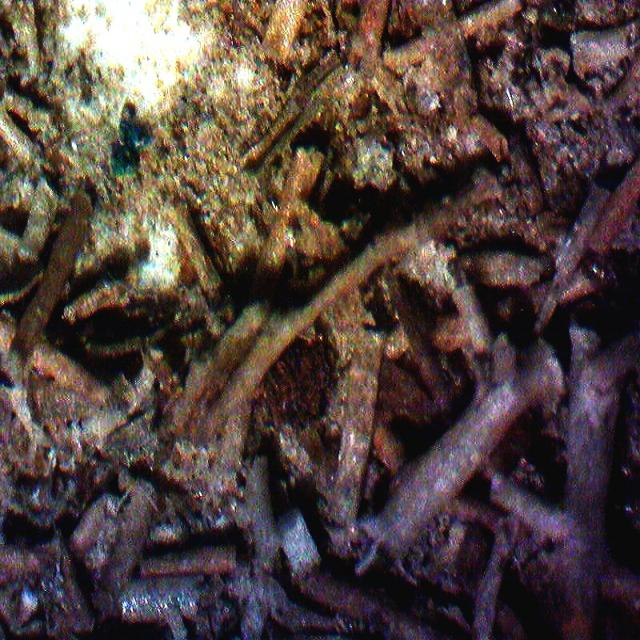microplastic: (110, 118, 156, 177)
